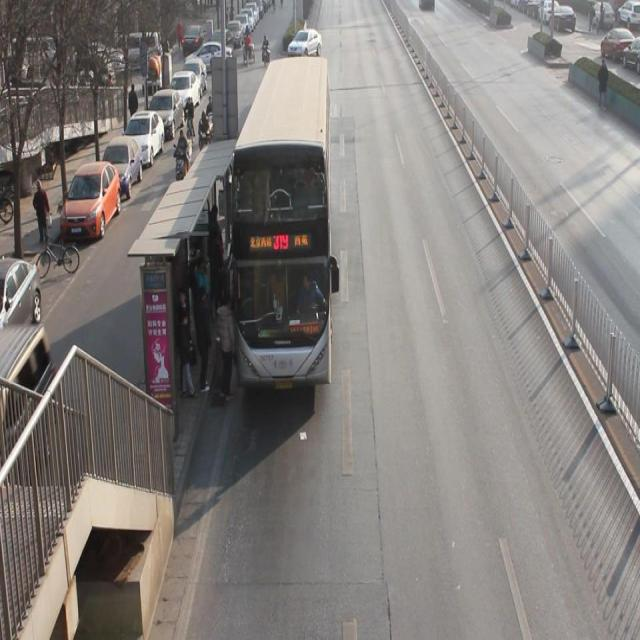car: (299, 29, 323, 58)
van: (232, 63, 332, 390)
